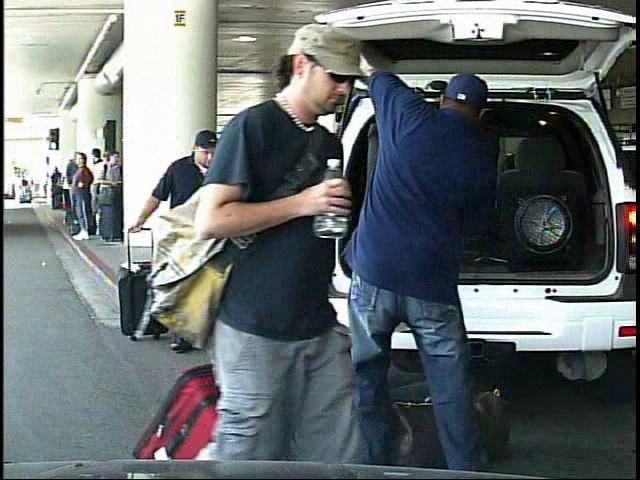person: (183, 19, 373, 480), (333, 35, 527, 478), (127, 124, 247, 355), (13, 174, 24, 205)
